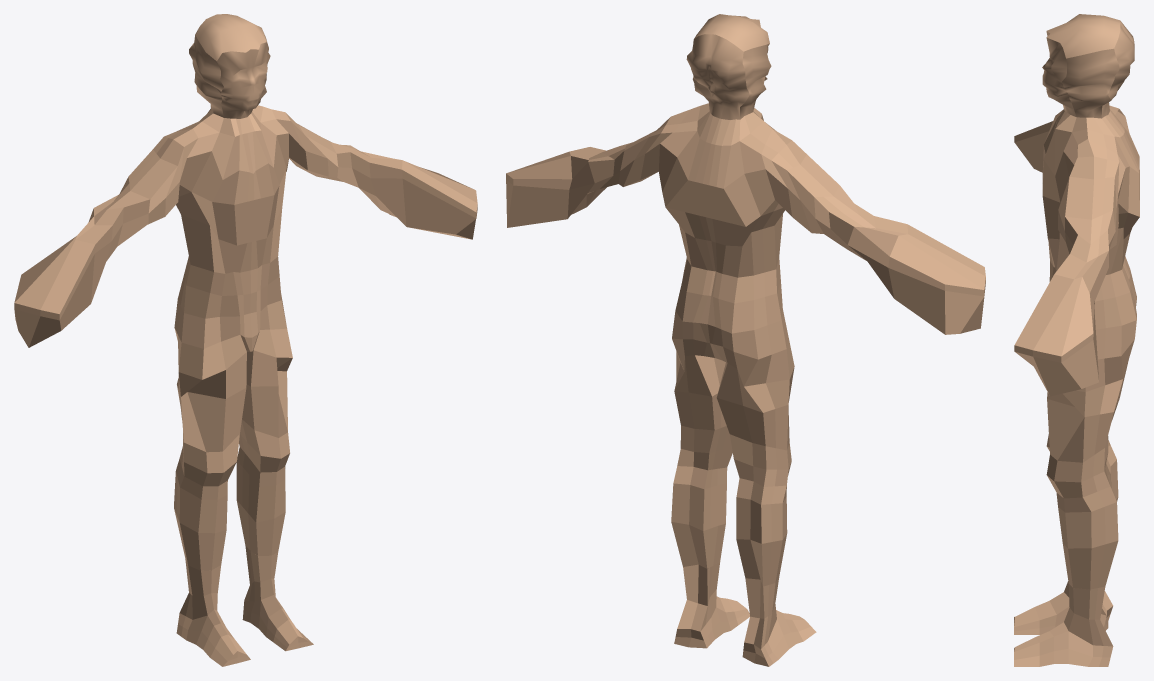
File: zombi.FBX
3 views of the same model, side by side, from view 1: azimuth 30°, elevation 25°; view 2: azimuth 150°, elevation 25°; view 3: azimuth 270°, elevation 25° (orthographic). The views are drawn at different scales.
Parts seen in each view (by area): view 1: Box001; view 2: Box001; view 3: Box001.
Boxes of the visible parts, bbox=[...] form: Box001: bbox=[14, 14, 477, 666]; Box001: bbox=[506, 14, 985, 666]; Box001: bbox=[1014, 14, 1139, 666].
Bounding box in the file's own units: 304 × 382 × 69.81.
